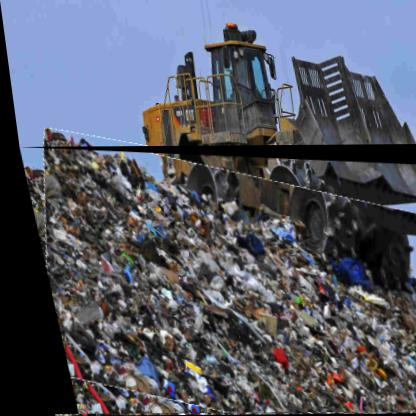Garbage: (16, 145, 416, 416)
